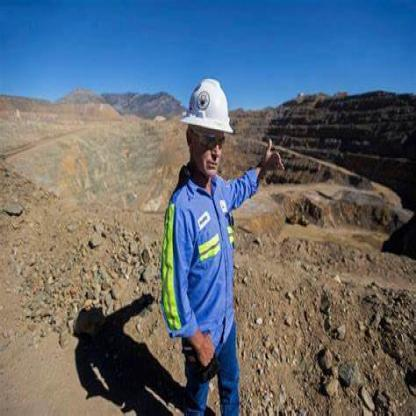person: (147, 59, 259, 406)
